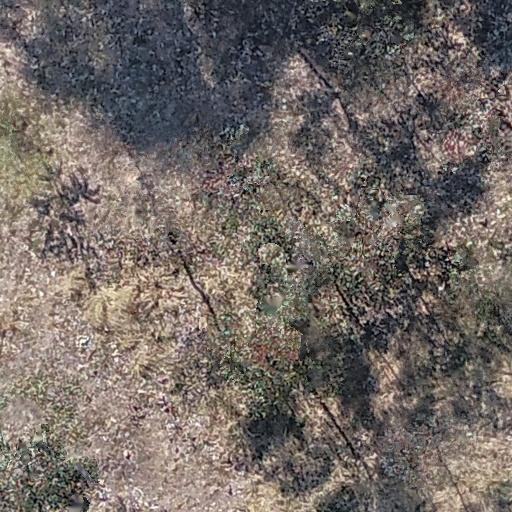stone: (156, 374, 171, 388), (78, 337, 90, 350), (120, 450, 134, 458), (228, 484, 234, 496)
